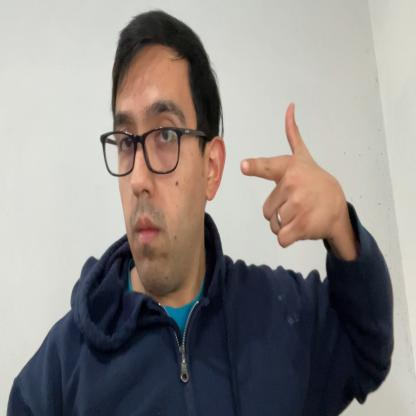G: (241, 100, 328, 249)
